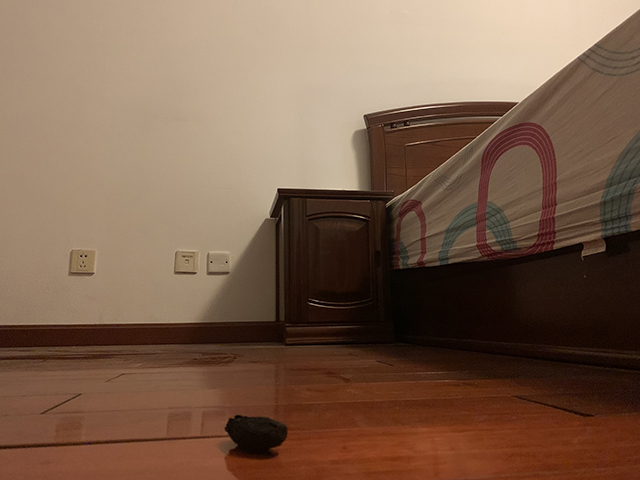bed: (362, 8, 640, 376)
cabinet: (268, 187, 398, 348)
feces: (222, 413, 289, 455)
